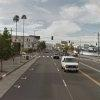Car: (53, 49, 87, 76)
